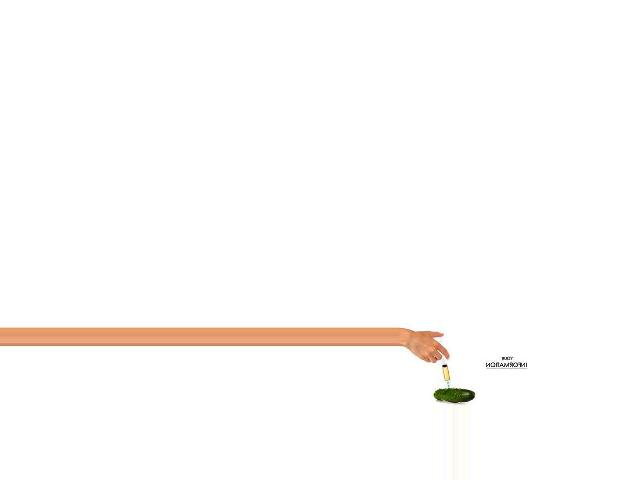cucumber: (432, 388, 474, 402)
